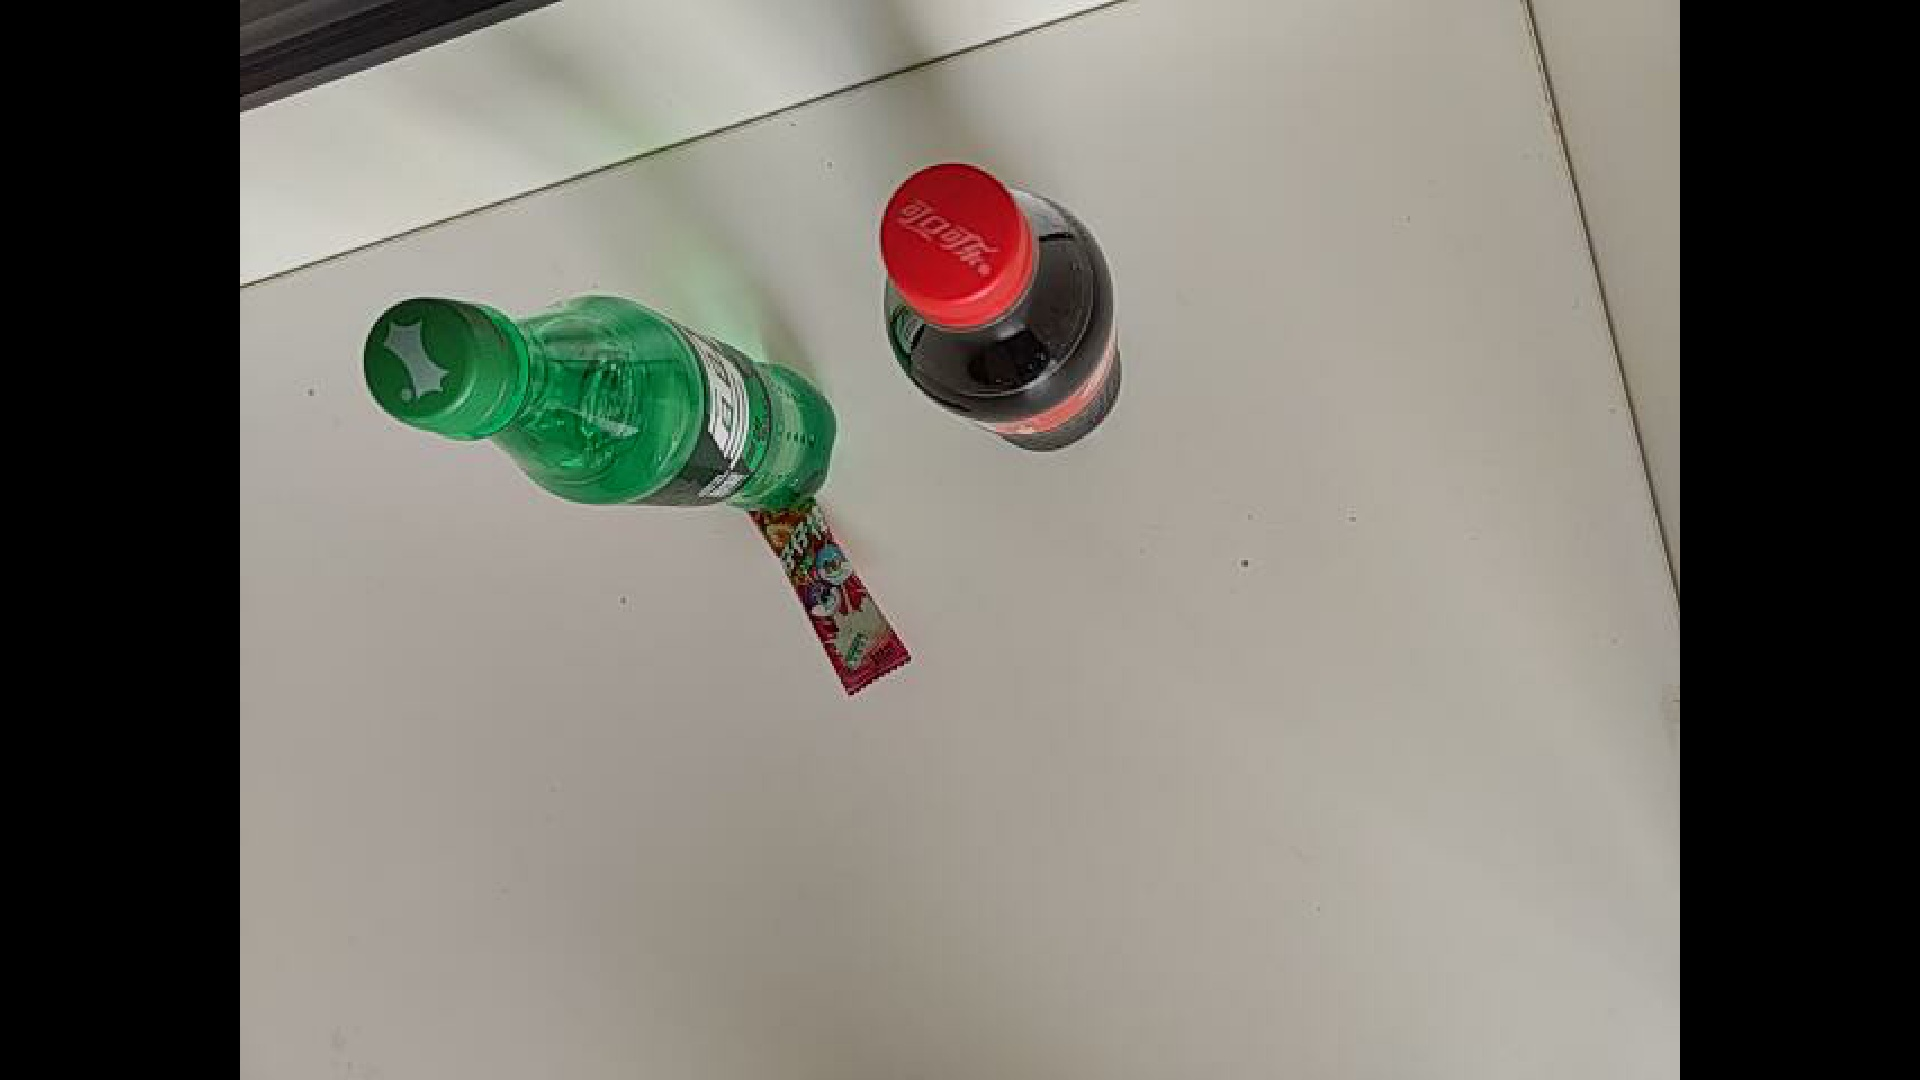cola: (877, 161, 1124, 455)
sprite: (323, 262, 852, 510)
sugar: (662, 473, 918, 684)
